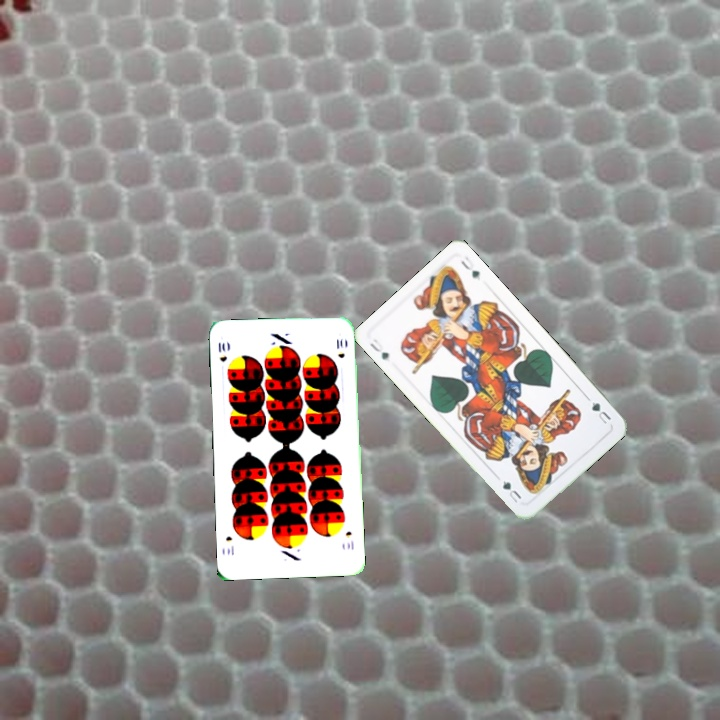GU: (583, 393, 614, 427), (365, 335, 392, 363)
S10: (214, 338, 229, 364), (342, 527, 356, 552)
